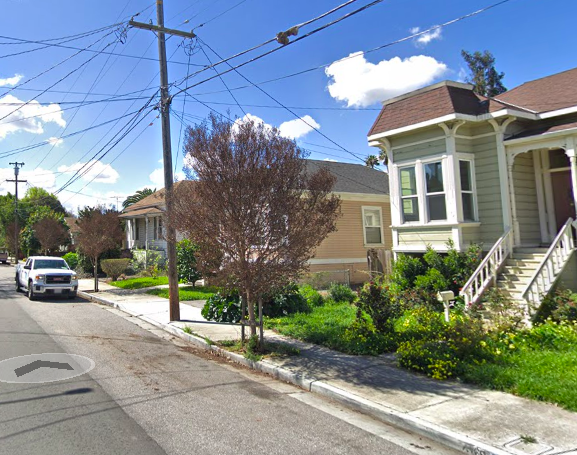tree: (160, 109, 345, 352)
